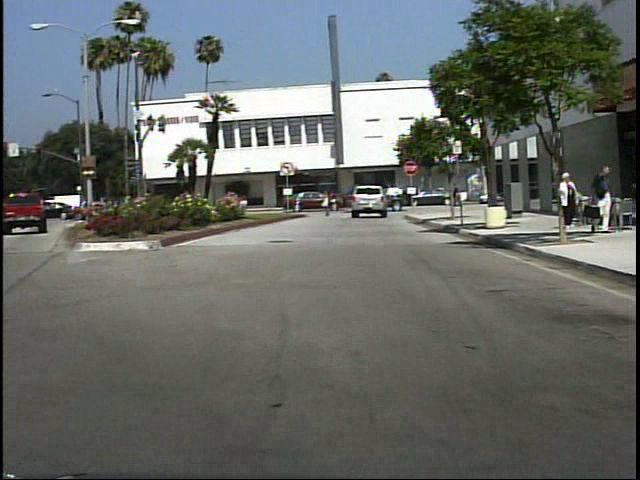person: (591, 162, 616, 235), (558, 171, 584, 228), (447, 180, 471, 214), (321, 187, 337, 219)
